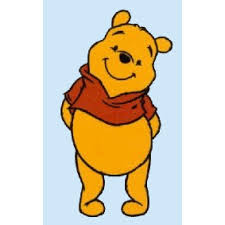Winnie: (75, 5, 174, 113)
